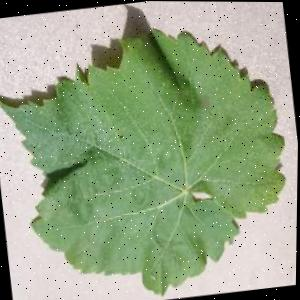Folha: (0, 10, 300, 300)
